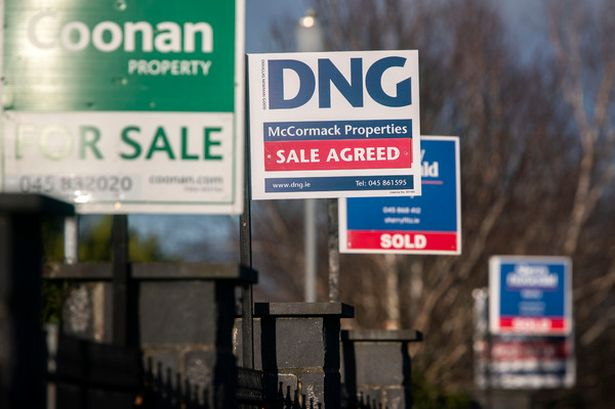property sign: (1, 1, 253, 227), (246, 41, 420, 207), (341, 132, 465, 270), (464, 285, 574, 393), (488, 247, 576, 334)
